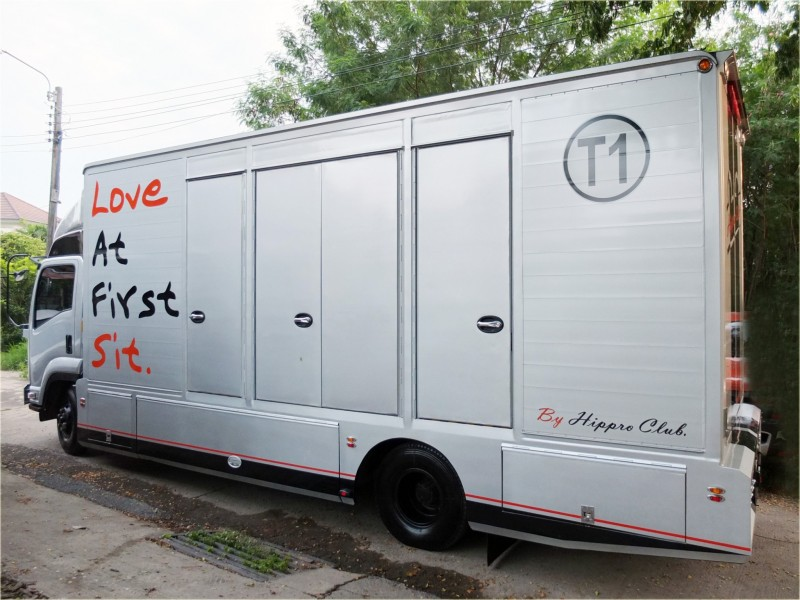truck: (11, 49, 758, 562)
